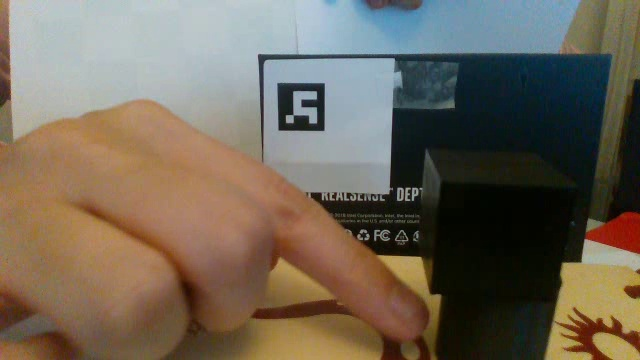cube: (415, 134, 587, 299)
cylindre: (429, 260, 569, 359)
